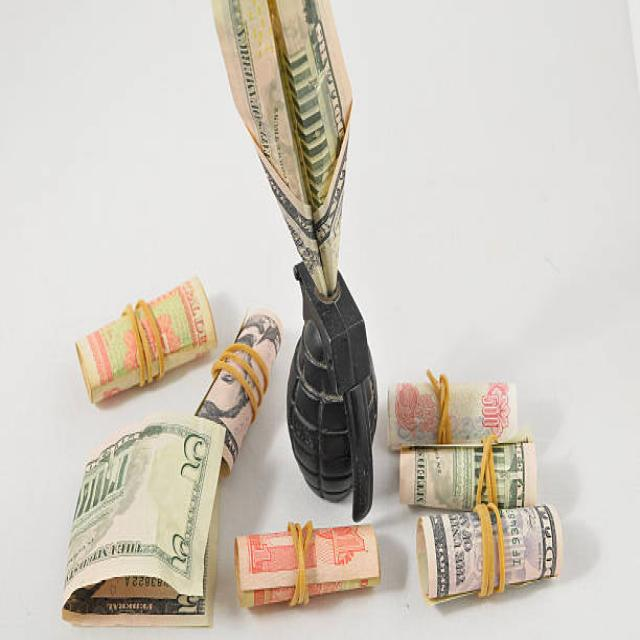grenade: (286, 262, 383, 525)
